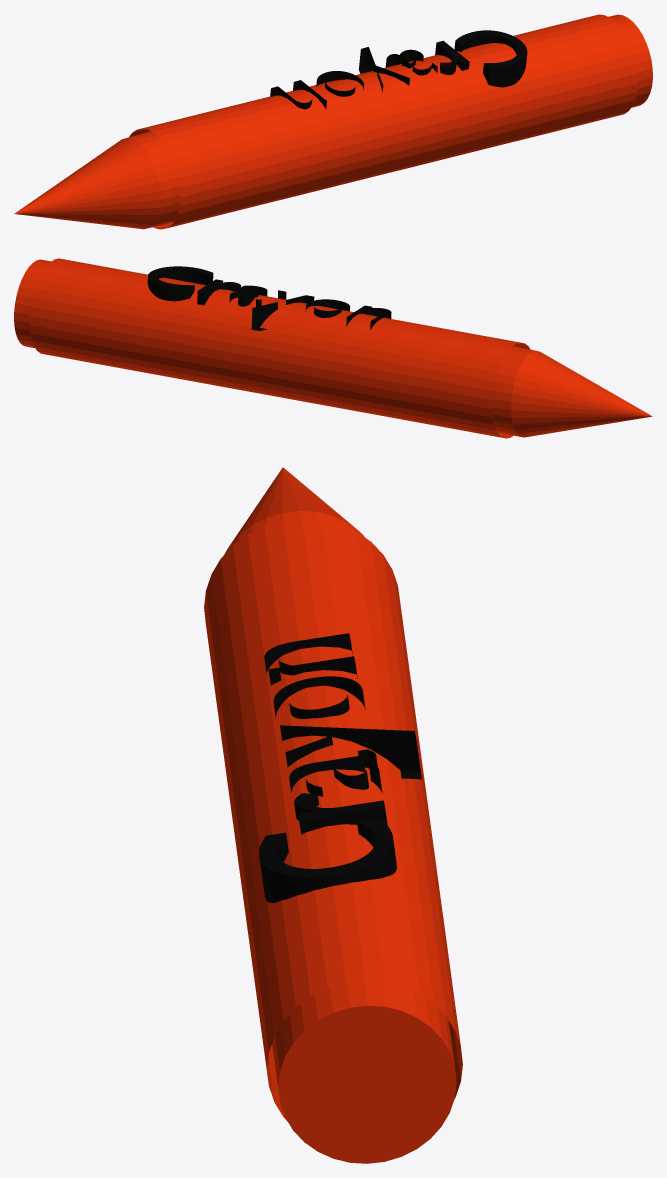
File: Red_crayon.fbx
3 views of the same model, one above another, from view 1: azimuth 30°, elevation 25°; view 2: azimuth 150°, elevation 25°; view 3: azimuth 270°, elevation 25° (orthographic). The views are drawn at different scales.
Parts seen in each view (by area): view 1: Cone.004; view 2: Cone.004; view 3: Cone.004.
Boxes of the visible parts, box(x1,y1,x2,y2) form: Cone.004: box(14, 14, 652, 229); Cone.004: box(14, 258, 652, 438); Cone.004: box(204, 467, 462, 1163).
Bounding box in the file's own units: 12.28 × 2.03 × 2.29.
